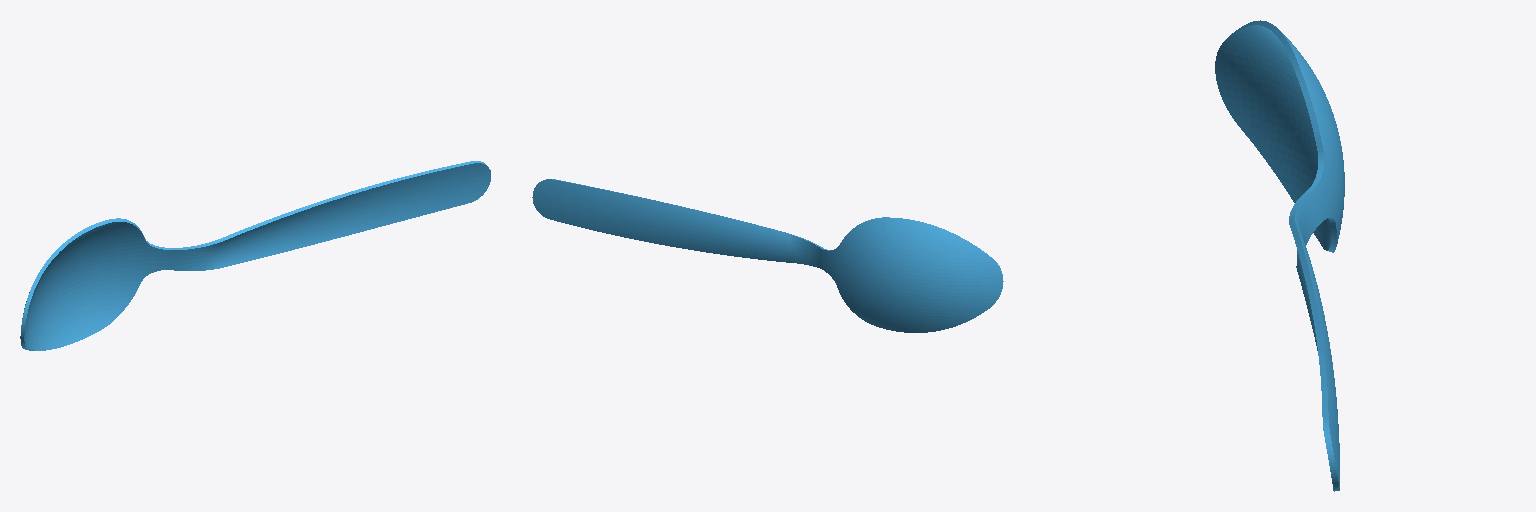
URDF robot description (panda):
<?xml version="1.0" ?>
<!-- =================================================================================== -->
<!-- |    This document was autogenerated by xacro from panda_arm.urdf.xacro           | -->
<!-- |    EDITING THIS FILE BY HAND IS NOT RECOMMENDED                                 | -->
<!-- =================================================================================== -->
<robot name="panda">
  <link name="panda_link0">
    <visual>
      <geometry>
        <mesh filename="franka_description/meshes/visual/link0.dae"/>
      </geometry>
    </visual>
    <collision>
      <geometry>
        <mesh filename="franka_description/meshes/collision/link0.stl"/>
      </geometry>
    </collision>
    <inertial>
      <origin rpy="0 0 0" xyz="-0.041018 -0.00014 0.049974"/>
      <mass value="0.629769"/>
      <inertia ixx="0.00315" ixy="8.2904e-07" ixz="0.00015" iyy="0.00388" iyz="8.2299e-06" izz="0.004285"/>
    </inertial>
  </link>
  <link name="panda_link1">
    <visual>
      <geometry>
        <mesh filename="franka_description/meshes/visual/link1.dae"/>
      </geometry>
    </visual>
    <collision>
      <geometry>
        <mesh filename="franka_description/meshes/collision/link1.stl"/>
      </geometry>
    </collision>
    <inertial>
      <origin rpy="0 0 0" xyz="0.003875 0.002081 -0.04762"/>
      <mass value="4.970684"/>
      <inertia ixx="0.70337" ixy="-0.000139" ixz="0.006772" iyy="0.70661" iyz="0.019169" izz="0.009117"/>
    </inertial>
  </link>
  <joint name="panda_joint1" type="revolute">
    <safety_controller k_position="100.0" k_velocity="40.0" soft_lower_limit="-2.8973" soft_upper_limit="2.8973"/>
    <origin rpy="0 0 0" xyz="0 0 0.333"/>
    <parent link="panda_link0"/>
    <child link="panda_link1"/>
    <axis xyz="0 0 1"/>
    <limit effort="87" lower="-2.8973" upper="2.8973" velocity="2.1750"/>
    <dynamics D="1" K="7000" damping="0.003" friction="0.0" mu_coulomb="0" mu_viscous="16"/>
  </joint>
  <link name="panda_link2">
    <visual>
      <geometry>
        <mesh filename="franka_description/meshes/visual/link2.dae"/>
      </geometry>
    </visual>
    <collision>
      <geometry>
        <mesh filename="franka_description/meshes/collision/link2.stl"/>
      </geometry>
    </collision>
    <inertial>
      <origin rpy="0 0 0" xyz="-0.003141 -0.02872  0.003495"/>
      <mass value="0.646926"/>
      <inertia ixx="0.007962" ixy="-0.003925" ixz="0.010254" iyy="0.02811" iyz="0.000704" izz="0.025995"/>
    </inertial>
  </link>
  <joint name="panda_joint2" type="revolute">
    <safety_controller k_position="100.0" k_velocity="40.0" soft_lower_limit="-1.7628" soft_upper_limit="1.7628"/>
    <origin rpy="-1.5707963267948966 0 0" xyz="0 0 0"/>
    <parent link="panda_link1"/>
    <child link="panda_link2"/>
    <axis xyz="0 0 1"/>
    <limit effort="87" lower="-1.7628" upper="1.7628" velocity="2.1750"/>
    <dynamics D="1" K="7000" damping="0.003" friction="0.0" mu_coulomb="0" mu_viscous="16"/>
  </joint>
  <link name="panda_link3">
    <visual>
      <geometry>
        <mesh filename="franka_description/meshes/visual/link3.dae"/>
      </geometry>
    </visual>
    <collision>
      <geometry>
        <mesh filename="franka_description/meshes/collision/link3.stl"/>
      </geometry>
    </collision>
    <inertial>
      <origin rpy="0 0 0" xyz="2.7518e-02 3.9252e-02 -6.6502e-02"/>
      <mass value="3.228604"/>
      <inertia ixx="0.037242" ixy="-0.004761" ixz="-0.011396" iyy="0.036155" iyz="-0.012805" izz="0.01083"/>
    </inertial>
  </link>
  <joint name="panda_joint3" type="revolute">
    <safety_controller k_position="100.0" k_velocity="40.0" soft_lower_limit="-2.8973" soft_upper_limit="2.8973"/>
    <origin rpy="1.5707963267948966 0 0" xyz="0 -0.316 0"/>
    <parent link="panda_link2"/>
    <child link="panda_link3"/>
    <axis xyz="0 0 1"/>
    <limit effort="87" lower="-2.8973" upper="2.8973" velocity="2.1750"/>
    <dynamics D="1" K="7000" damping="0.003" friction="0.0" mu_coulomb="0" mu_viscous="16"/>
  </joint>
  <link name="panda_link4">
    <visual>
      <geometry>
        <mesh filename="franka_description/meshes/visual/link4.dae"/>
      </geometry>
    </visual>
    <collision>
      <geometry>
        <mesh filename="franka_description/meshes/collision/link4.stl"/>
      </geometry>
    </collision>
    <inertial>
      <origin rpy="0 0 0" xyz="-5.317e-02 1.04419e-01 2.7454e-02"/>
      <mass value="3.587895"/>
      <inertia ixx="0.025853" ixy="0.007796" ixz="-0.001332" iyy="0.019552" iyz="0.008641" izz="0.028323"/>
    </inertial>
  </link>
  <joint name="panda_joint4" type="revolute">
    <safety_controller k_position="100.0" k_velocity="40.0" soft_lower_limit="-3.0718" soft_upper_limit="-0.0698"/>
    <origin rpy="1.5707963267948966 0 0" xyz="0.0825 0 0"/>
    <parent link="panda_link3"/>
    <child link="panda_link4"/>
    <axis xyz="0 0 1"/>
    <limit effort="87" lower="-3.0718" upper="-0.0698" velocity="2.1750"/>
    <dynamics D="1" K="7000" damping="0.003" friction="0.0" mu_coulomb="0" mu_viscous="16"/>
  </joint>
  <link name="panda_link5">
    <visual>
      <geometry>
        <mesh filename="franka_description/meshes/visual/link5.dae"/>
      </geometry>
    </visual>
    <collision>
      <geometry>
        <mesh filename="franka_description/meshes/collision/link5.stl"/>
      </geometry>
    </collision>
    <inertial>
      <origin rpy="0 0 0" xyz="-1.1953e-02 4.1065e-02 -3.8437e-02"/>
      <mass value="1.225946"/>
      <inertia ixx="0.035549" ixy="-0.002117" ixz="-0.004037" iyy="0.029474" iyz="0.000229" izz="0.008627"/>
    </inertial>
  </link>
  <joint name="panda_joint5" type="revolute">
    <safety_controller k_position="100.0" k_velocity="40.0" soft_lower_limit="-2.8973" soft_upper_limit="2.8973"/>
    <origin rpy="-1.5707963267948966 0 0" xyz="-0.0825 0.384 0"/>
    <parent link="panda_link4"/>
    <child link="panda_link5"/>
    <axis xyz="0 0 1"/>
    <limit effort="12" lower="-2.8973" upper="2.8973" velocity="2.6100"/>
    <dynamics D="1" K="7000" damping="0.003" friction="0.0" mu_coulomb="0" mu_viscous="16"/>
  </joint>
  <link name="panda_link6">
    <visual>
      <geometry>
        <mesh filename="franka_description/meshes/visual/link6.dae"/>
      </geometry>
    </visual>
    <collision>
      <geometry>
        <mesh filename="franka_description/meshes/collision/link6.stl"/>
      </geometry>
    </collision>
    <inertial>
      <origin rpy="0 0 0" xyz="6.0149e-02 -1.4117e-02 -1.0517e-02"/>
      <mass value="1.666555"/>
      <inertia ixx="0.001964" ixy="0.000109" ixz="-0.001158" iyy="0.004354" iyz="0.000341" izz="0.005433"/>
    </inertial>
  </link>
  <joint name="panda_joint6" type="revolute">
    <safety_controller k_position="100.0" k_velocity="40.0" soft_lower_limit="-0.0175" soft_upper_limit="3.7525"/>
    <origin rpy="1.5707963267948966 0 0" xyz="0 0 0"/>
    <parent link="panda_link5"/>
    <child link="panda_link6"/>
    <axis xyz="0 0 1"/>
    <limit effort="12" lower="-0.0175" upper="3.7525" velocity="2.6100"/>
    <dynamics D="1" K="7000" damping="0.003" friction="0.0" mu_coulomb="0" mu_viscous="16"/>
  </joint>
  <link name="panda_link7">
    <visual>
      <geometry>
        <mesh filename="franka_description/meshes/visual/link7.dae"/>
      </geometry>
    </visual>
    <collision>
      <geometry>
        <mesh filename="franka_description/meshes/collision/link7.stl"/>
      </geometry>
    </collision>
    <inertial>
      <origin rpy="0 0 0" xyz="1.0517e-02 -4.252e-03 6.1597e-02"/>
      <mass value="0.735522"/>
      <inertia ixx="0.012516" ixy="-0.000428" ixz="-0.001196" iyy="0.010027" iyz="-0.000741" izz="0.004815"/>
    </inertial>
  </link>
  <joint name="panda_joint7" type="revolute">
    <safety_controller k_position="100.0" k_velocity="40.0" soft_lower_limit="-2.8973" soft_upper_limit="2.8973"/>
    <origin rpy="1.5707963267948966 0 0" xyz="0.088 0 0"/>
    <parent link="panda_link6"/>
    <child link="panda_link7"/>
    <axis xyz="0 0 1"/>
    <limit effort="12" lower="-2.8973" upper="2.8973" velocity="2.6100"/>
    <dynamics D="1" K="7000" damping="0.003" friction="0.0" mu_coulomb="0" mu_viscous="16"/>
  </joint>
  <link name="panda_link8"/>
  <joint name="panda_joint8" type="fixed">
    <origin rpy="0 0 0" xyz="0 0 0.107"/>
    <parent link="panda_link7"/>
    <child link="panda_link8"/>
  </joint>
  <link name="spoon">
    <inertial>
      <origin rpy="0 0 0" xyz="0 0 0"/>
      <mass value="0.54156"/>
      <inertia ixx="0.00047106" ixy="3.9292E-07" ixz="2.6537E-06" iyy="0.00033072" iyz="-1.0975E-05" izz="0.00025642"/>
    </inertial>
    <visual>
      <geometry>
        <mesh filename="package://franka_description/meshes/spoon.STL"
        scale="0.001 0.001 0.001"/>
      </geometry>
      <origin rpy="0 0 0" xyz="0 0 0"/>
      <material name="Silver"/>
    </visual>
    <collision>
      <geometry>
        <mesh filename="package://franka_description/meshes/spoon.STL.convex.stl"
        scale="0.001 0.001 0.001"/>
      </geometry>
      <origin rpy="0 0 0" xyz="0 0 0"/>
      <material name="Silver"/>
    </collision>
  </link>
  <joint name="left_finger_spoon" type="fixed">
    <origin rpy="1.3531044 -1.5207655 1.6368985" xyz="0 -0.03 0.026"/>
    <parent link="panda_link8"/>
    <child link="spoon"/>
  </joint>
</robot>

--- Facts derived from the render (not from the file) ---
Views: 3 orthographic renders of the robot side by side, from view 1: azimuth 30°, elevation 25°; view 2: azimuth 150°, elevation 25°; view 3: azimuth 270°, elevation 25°.
Robot: panda — 10 links, 9 joints (7 revolute, 2 fixed); root link panda_link0; default pose: joints at zero except 1 at the middle of their limits (panda_joint4 = -1.57).
Visible links, largest first — view 1: spoon; view 2: spoon; view 3: spoon.
Link boxes in pixels (x1,y1,x2,y2): spoon: (20, 161, 490, 350); spoon: (532, 179, 1003, 332); spoon: (1215, 20, 1344, 491).
Size in the robot's own frame: 0.1485 by 0.0203 by 0.0343 metres.
Meshes: 9 distinct files referenced, 1 mesh visuals loaded (1 binary STL); not drawn: 8 (reference not matched to a file when rendering).